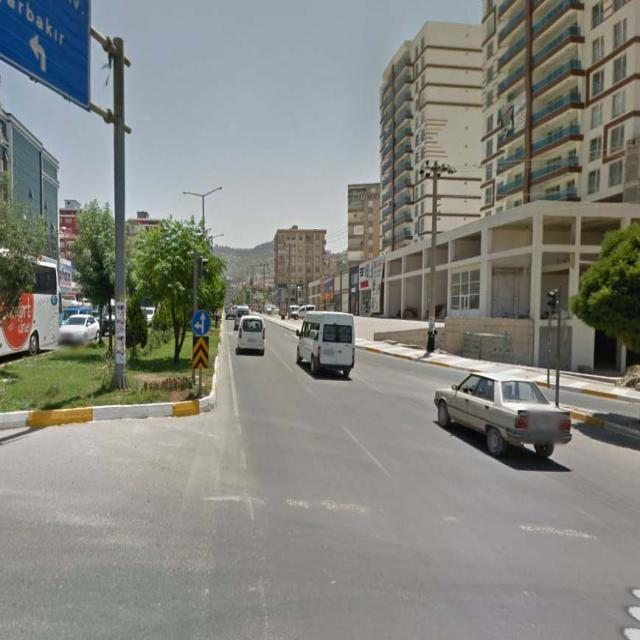ilerisol: (193, 312, 210, 335)
